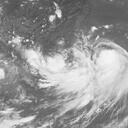cyclone: (95, 50, 127, 89)
